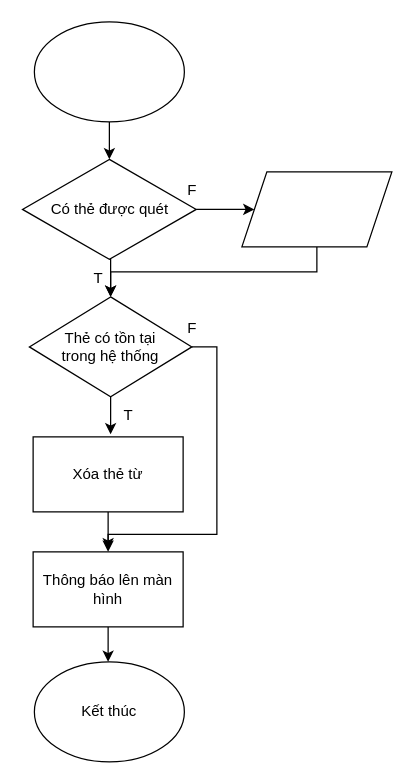
Some shapes in this 414 by 784 pixel diagram are drawn without their labels. The shapes that lost their labels are listed below. From the top down, each one's centre as x and y in pixels, then its label:
point (108, 71): Bắt đầu
point (316, 209): Nhập ID thẻ từ cần xóa
